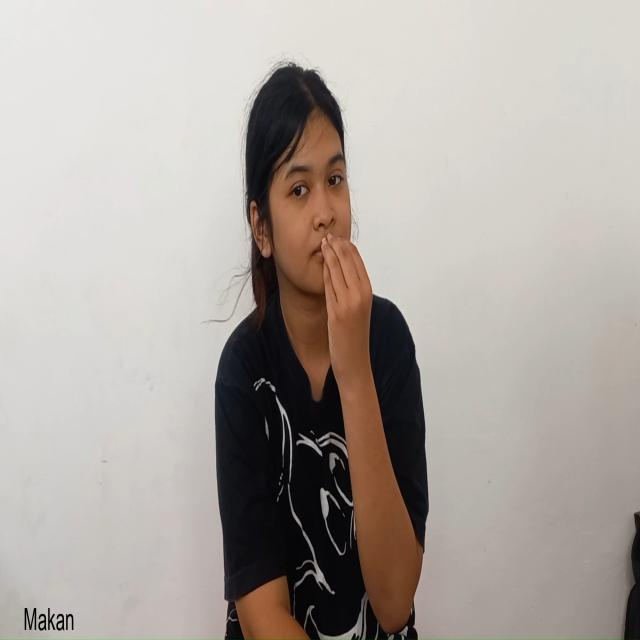Makan -BISINDO-: (233, 56, 389, 396)
